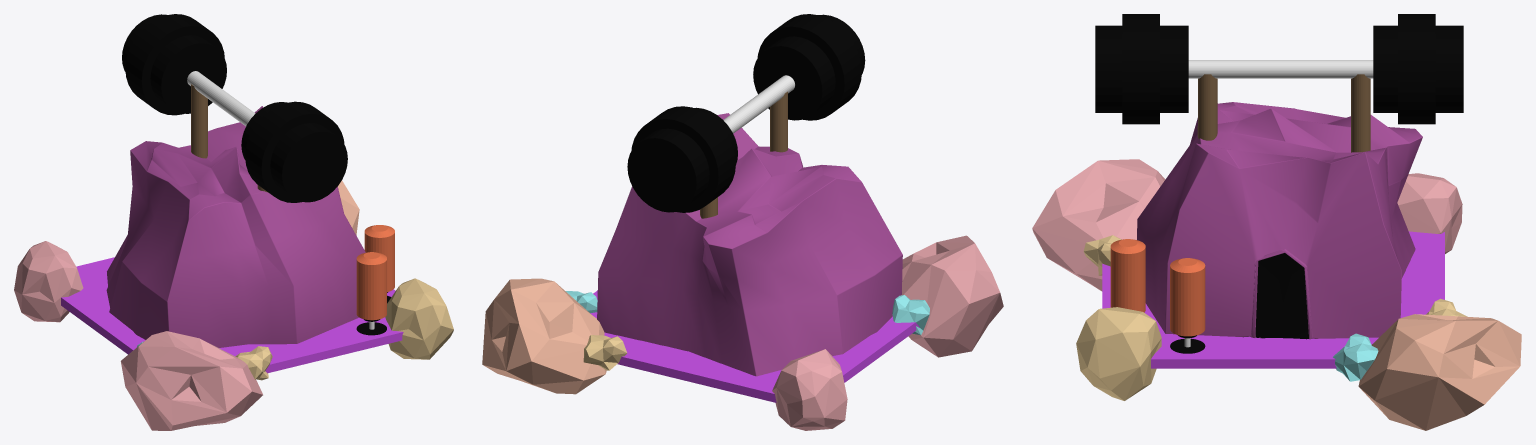
File: ProdutoraMermão2.fbx
3 views of the same model, side by side, from view 1: azimuth 30°, elevation 25°; view 2: azimuth 150°, elevation 25°; view 3: azimuth 270°, elevation 25° (orthographic). The views are drawn at different scales.
Parts seen in each view (by area): view 1: EstruturaCoral, Plataforma Mermao.003, Alter, Saco de Pancada 1, Saco de Pancada2, Pilares; view 2: EstruturaCoral, Plataforma Mermao.003, Alter, Pilares; view 3: EstruturaCoral, Plataforma Mermao.003, Alter, Saco de Pancada2, Pilares, Saco de Pancada 1.
Boxes of the visible parts, x1,y1,x2,y2 form: EstruturaCoral: [106, 106, 365, 347]; Plataforma Mermao.003: [14, 180, 453, 430]; Alter: [122, 14, 347, 202]; Saco de Pancada 1: [356, 252, 386, 335]; Saco de Pancada2: [364, 225, 394, 303]; Pilares: [191, 84, 268, 192]; EstruturaCoral: [597, 113, 902, 376]; Plataforma Mermao.003: [482, 235, 1003, 430]; Alter: [627, 14, 865, 212]; Pilares: [700, 91, 787, 218]; EstruturaCoral: [1137, 102, 1422, 339]; Plataforma Mermao.003: [1032, 159, 1521, 430]; Alter: [1095, 14, 1463, 124]; Saco de Pancada2: [1170, 258, 1205, 353]; Pilares: [1197, 74, 1370, 152]; Saco de Pancada 1: [1110, 239, 1145, 312].
Bounding box in the file's own units: 562 × 442 × 595.
